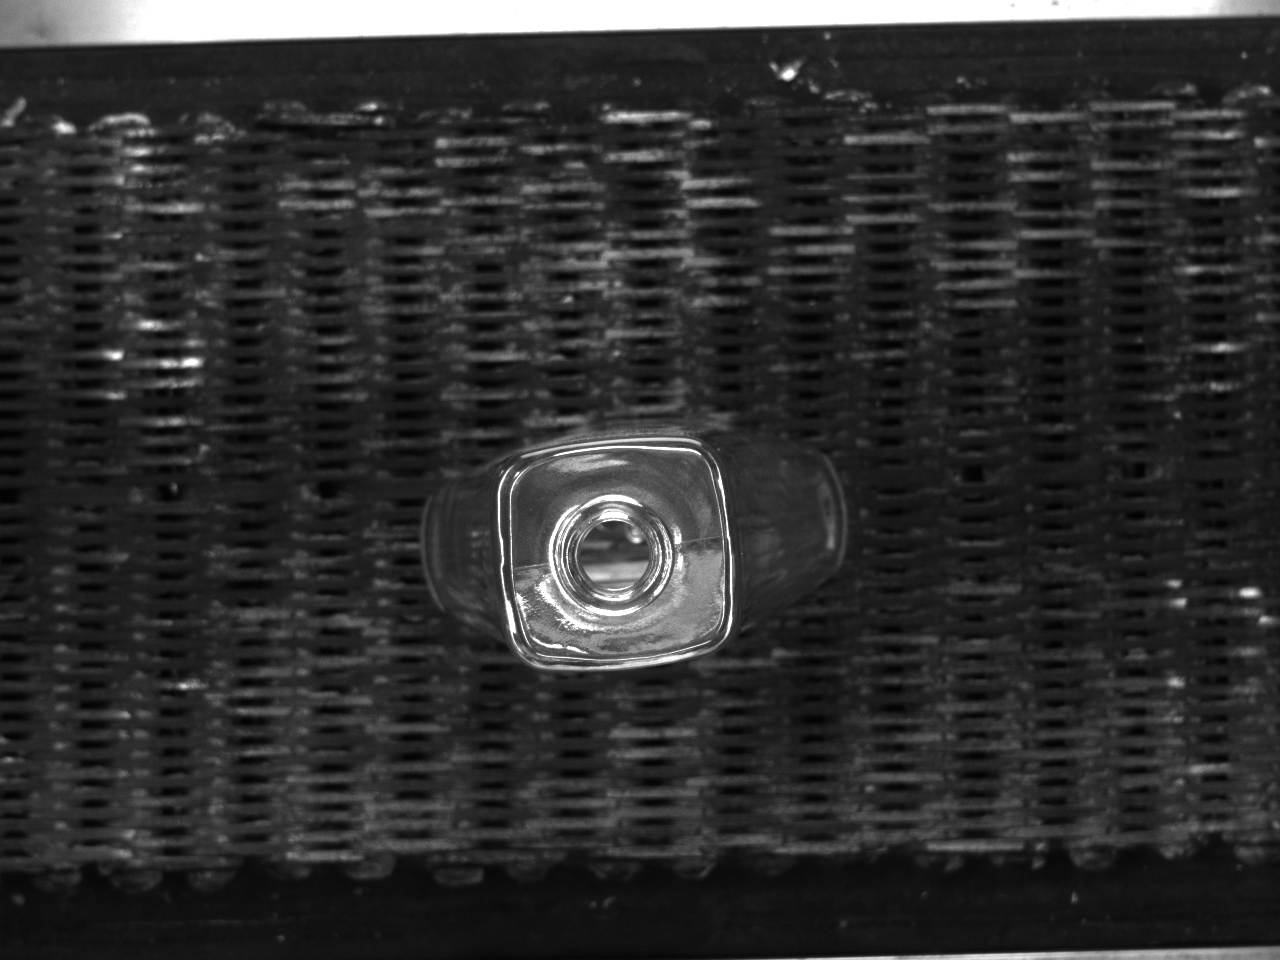bottleneck: (560, 494, 674, 615)
